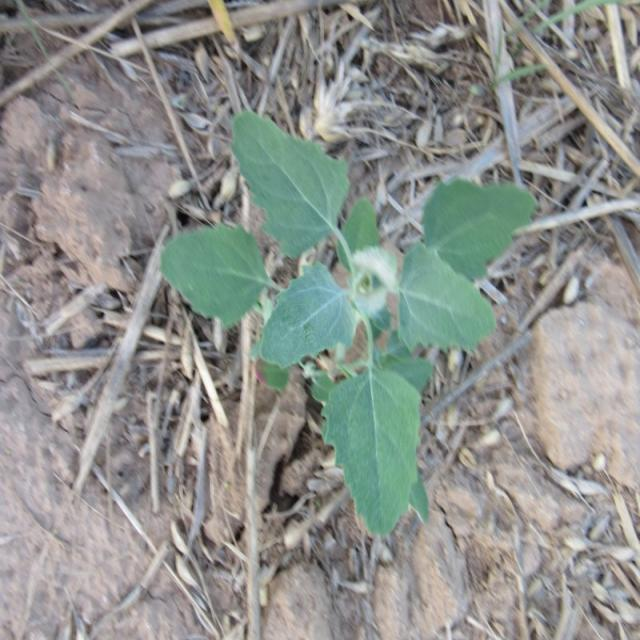ca: (163, 115, 535, 536)
